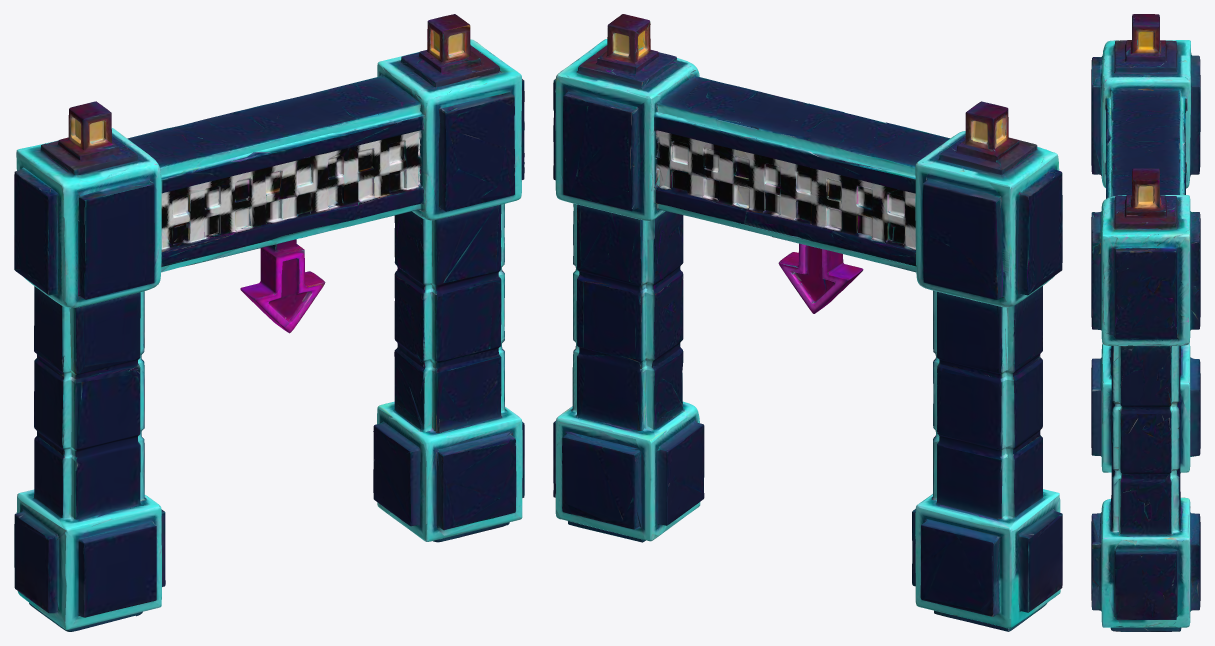
The model's file is m-rueda-arco.glb.
3 renders of one model, left to right at view 1: azimuth 30°, elevation 25°; view 2: azimuth 150°, elevation 25°; view 3: azimuth 270°, elevation 25°, orthographic. The views are drawn at different scales.
Bounding box in the file's own units: 1.9 × 1.9 × 0.4271.
1 material, 1 textured.
